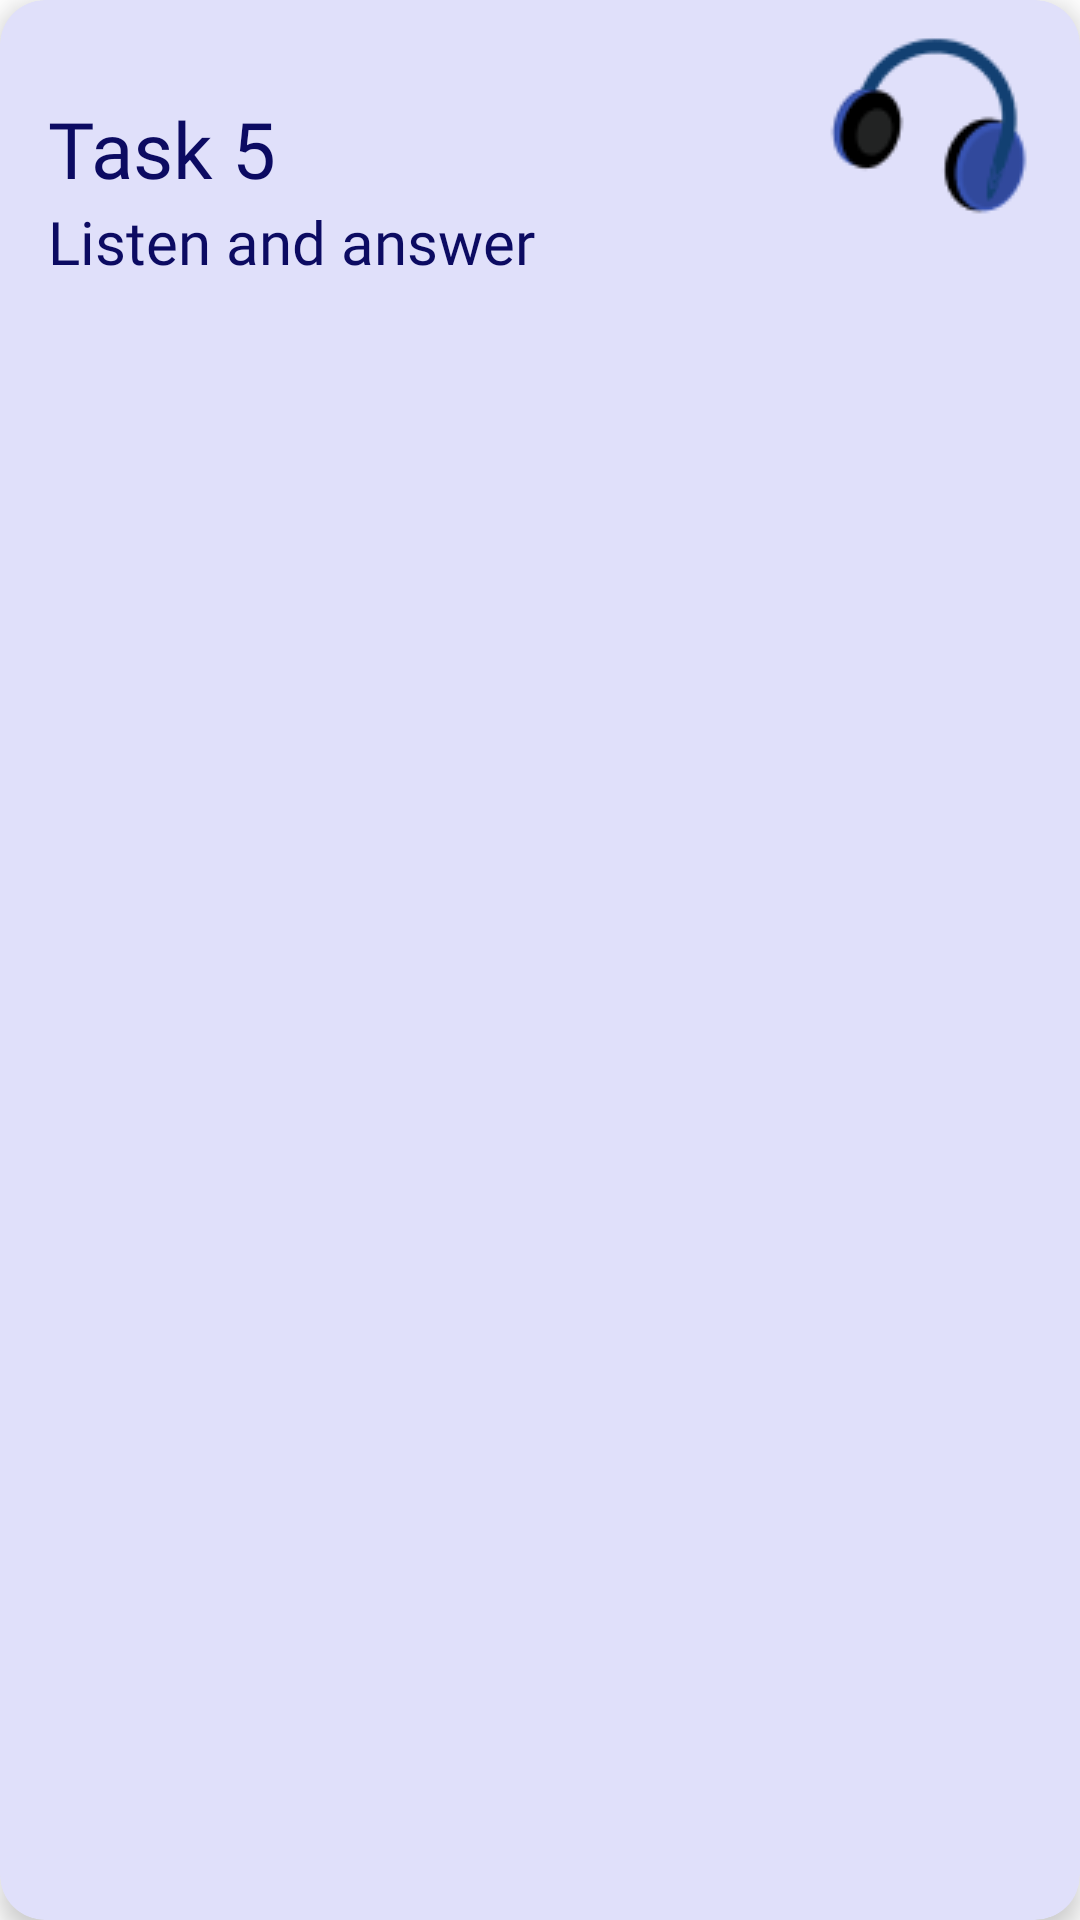

Icons on this 1080*1920 Android screen, each with its box as (x1, y1, x2, y2):
listen task: (831, 0, 1080, 213)
